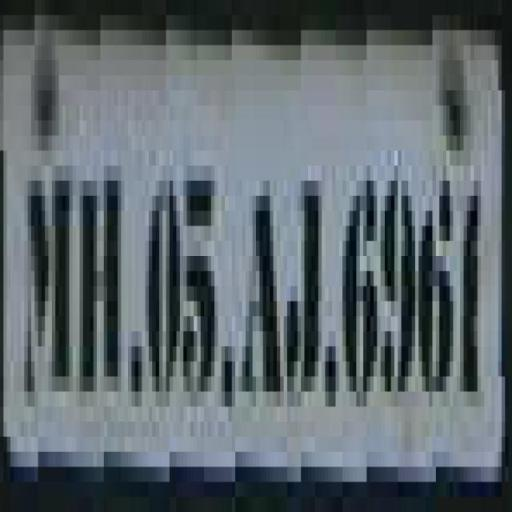number plate: (4, 15, 484, 497)
